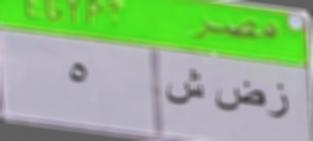5: (60, 57, 92, 89)
daad: (214, 75, 265, 119)
sheen: (167, 64, 205, 113)
zay: (268, 81, 292, 127)
